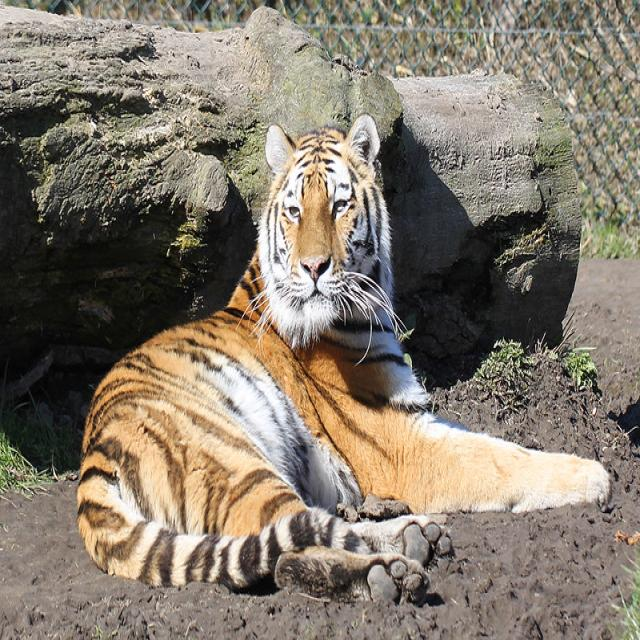Tiger: (74, 109, 609, 607)
